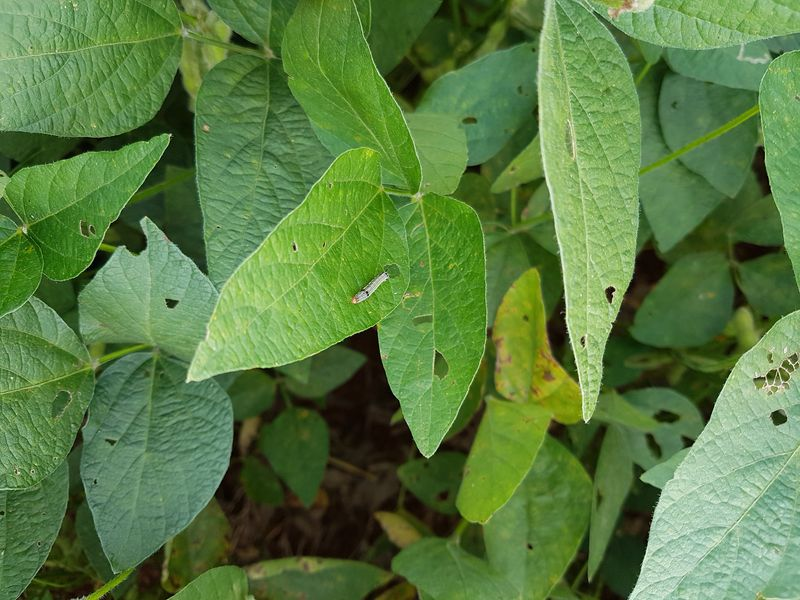Spodoptera_albula: (347, 265, 395, 309)
